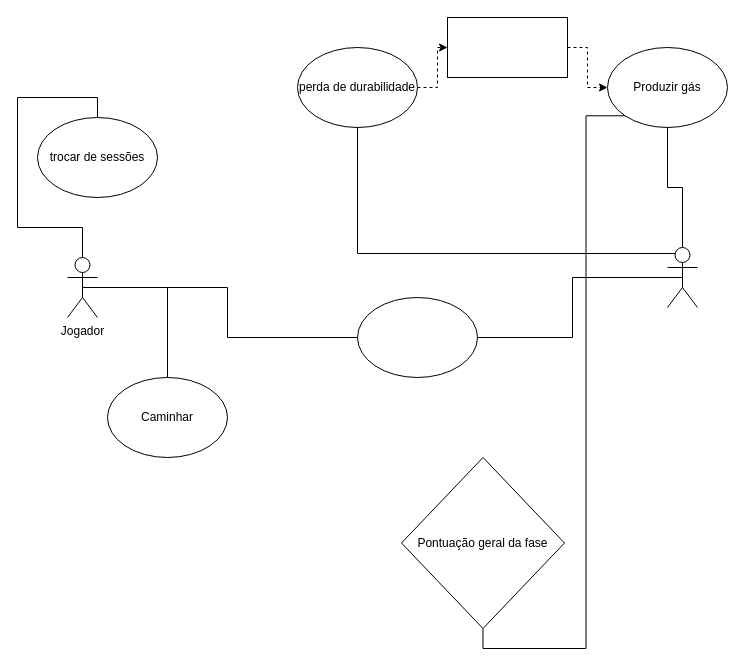
Some shapes in this 748 by 667 pixel diagram are drawn without their labels. The shapes that lost their labels are listed below. From the top down, each one's centre as x and y in pixels, then its label:
At point 507,47: "redução de produção".
At point 682,277: "Maquinas e peças".
At point 417,337: "Recuperar durabilidade".
